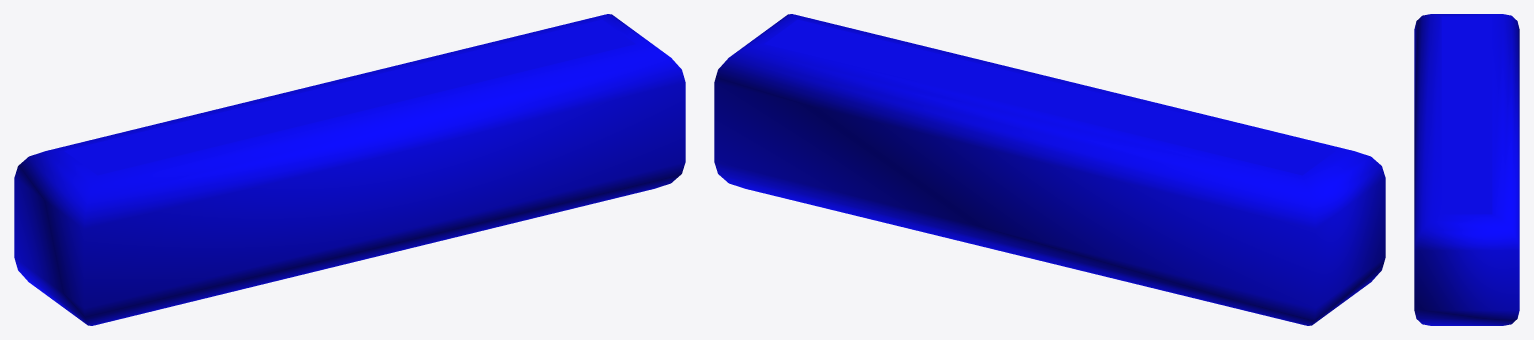
The picture shows the model from 3 angles, left to right: view 1: azimuth 30°, elevation 25°; view 2: azimuth 150°, elevation 25°; view 3: azimuth 270°, elevation 25°; orthographic projection. The views are drawn at different scales.
Visible parts, largest first — view 1: texto; view 2: texto; view 3: texto.
Boxes of the visible parts, x1=… form: texto: x1=14, y1=14, x2=685, y2=325; texto: x1=714, y1=14, x2=1385, y2=325; texto: x1=1414, y1=14, x2=1519, y2=325.
Bounding box in the file's own units: 0.9555 × 0.22 × 0.1925.
